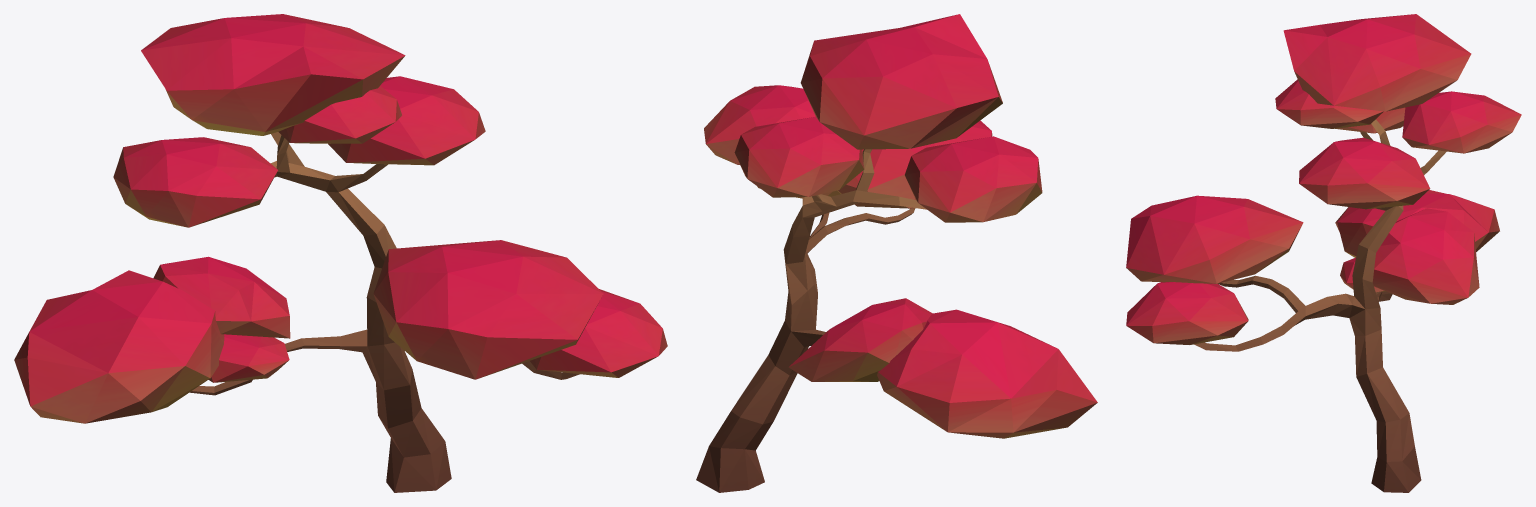
Rendered from ZLP_Plant_A_4.FBX.
3 renders of one model, left to right at view 1: azimuth 30°, elevation 25°; view 2: azimuth 150°, elevation 25°; view 3: azimuth 270°, elevation 25°, orthographic. The views are drawn at different scales.
Visible parts, largest first — view 1: ZLP_Plant_A_4; view 2: ZLP_Plant_A_4; view 3: ZLP_Plant_A_4.
Boxes of the visible parts, x1,y1,x2,y2 form: ZLP_Plant_A_4: (14,14,667,492); ZLP_Plant_A_4: (696,14,1097,492); ZLP_Plant_A_4: (1126,14,1521,492).
Size of the model in its own units: 502 by 492 by 457.
